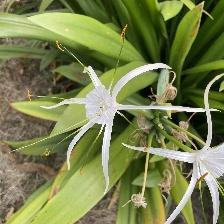spider lily: (74, 80, 144, 139)
